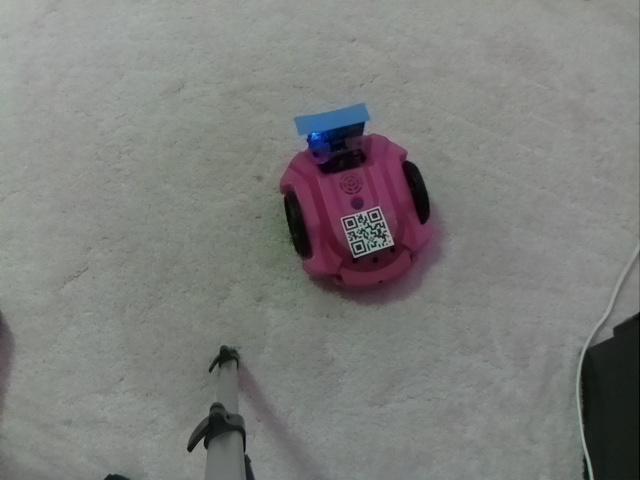chassis: (273, 103, 437, 302)
qr: (331, 200, 399, 266)
